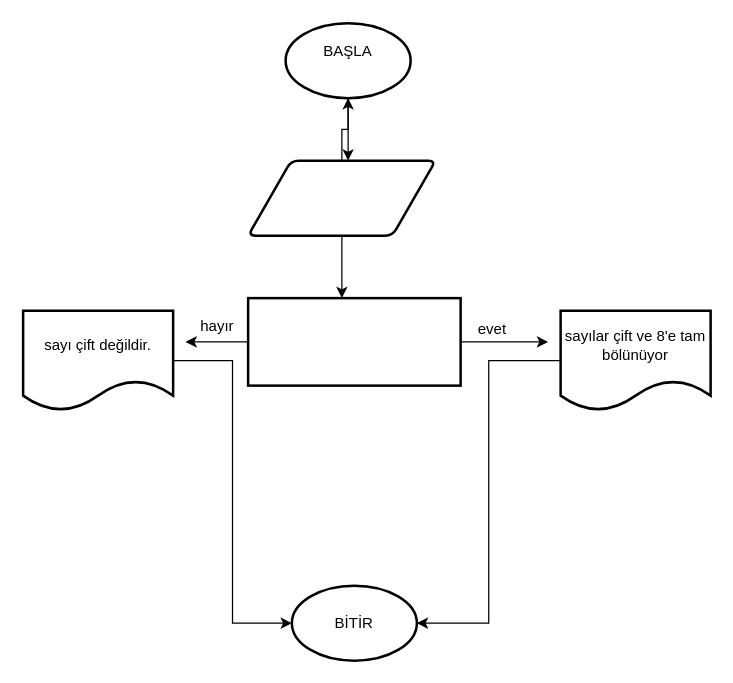
Some shapes in this 733 by 683 pixel diagram are drawn without their labels. Each missing label, with the centre of its shape:
if(sayi%2 ==0) if else (sayi%8==0): (353,341)
sayı[3]: (341,197)
